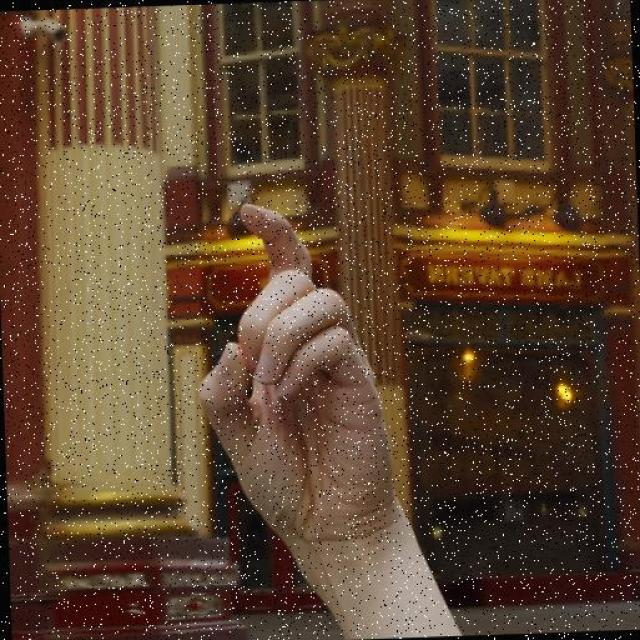X: (168, 176, 425, 633)
